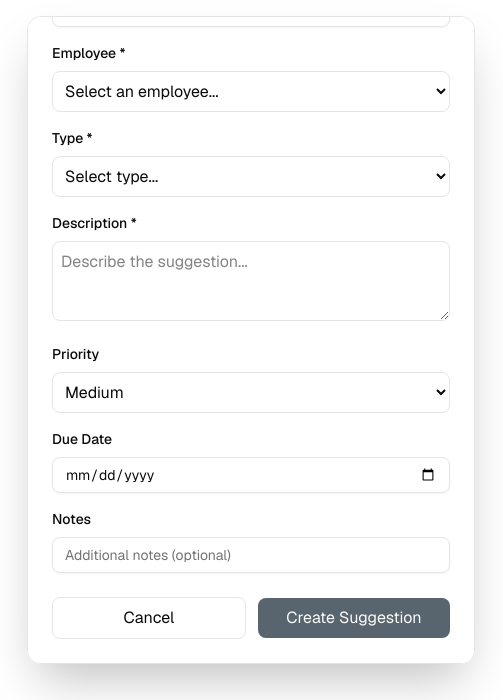
Test: SuggestionModal › Form Validation › clears errors when modal reopens
(page scrolled)
Click the button "Create Suggestion" at (354,618), box top-left (258, 598), bottom-right (450, 638)
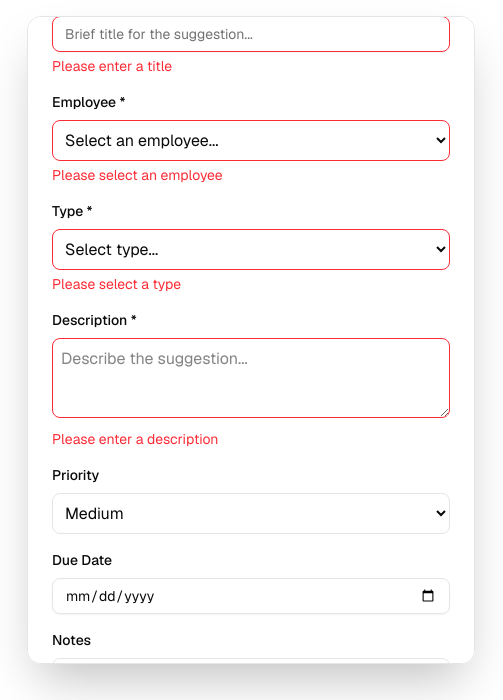
Now the text "Please select an employee" is shown, box top-left (52, 166), bottom-right (223, 184)
